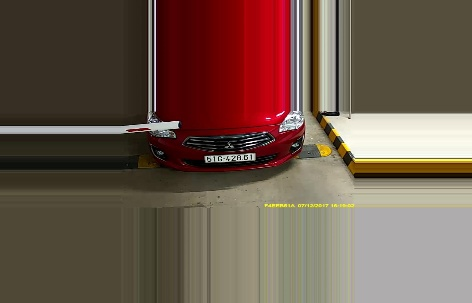plate: (199, 150, 257, 163)
